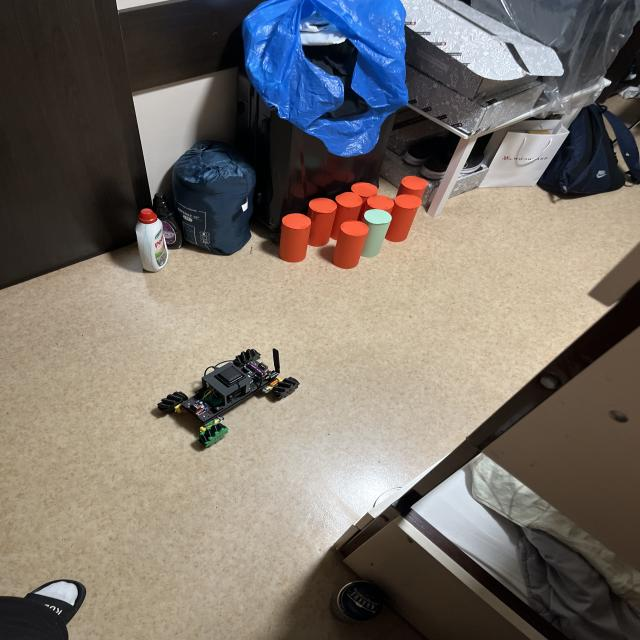robot: (158, 349, 299, 447)
